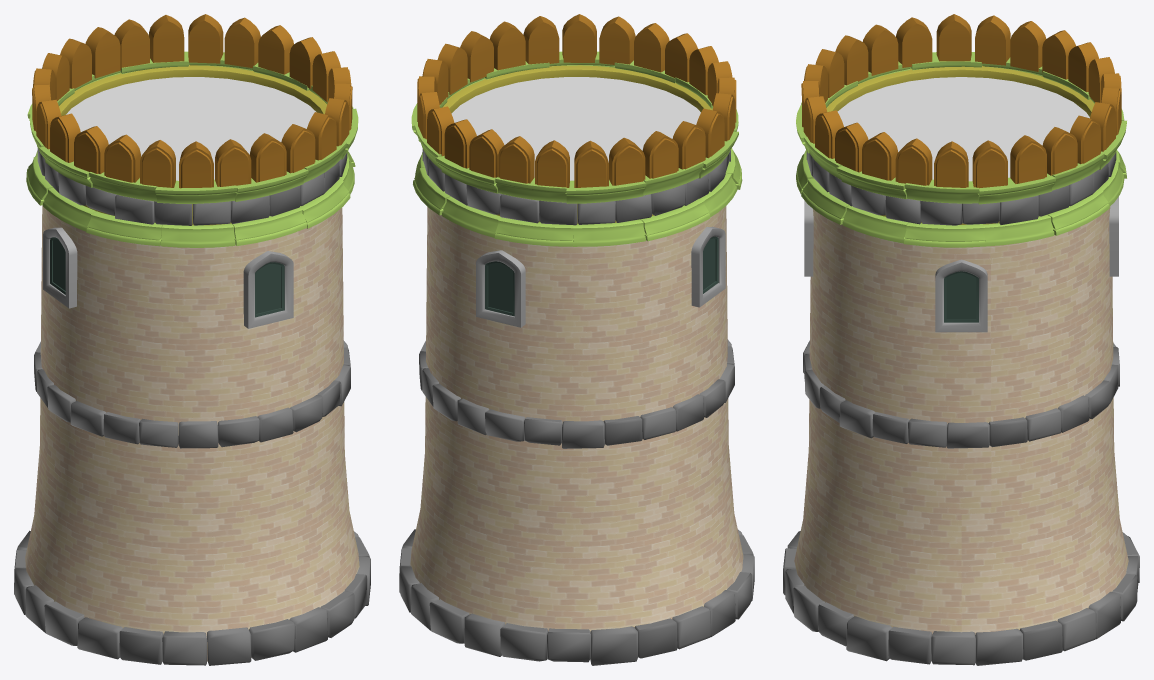
File: SM_tower_castle_round.fbx
3 renders of one model, left to right at view 1: azimuth 30°, elevation 25°; view 2: azimuth 150°, elevation 25°; view 3: azimuth 270°, elevation 25°, orthographic.
Visible parts, largest first — view 1: Cylinder424413; view 2: Cylinder424413; view 3: Cylinder424413.
Boxes of the visible parts, box(x1,y1,x2,y2) form: Cylinder424413: box(14, 14, 370, 665); Cylinder424413: box(399, 14, 754, 665); Cylinder424413: box(783, 14, 1139, 665).
Size of the model in its own units: 414 by 655 by 414.
